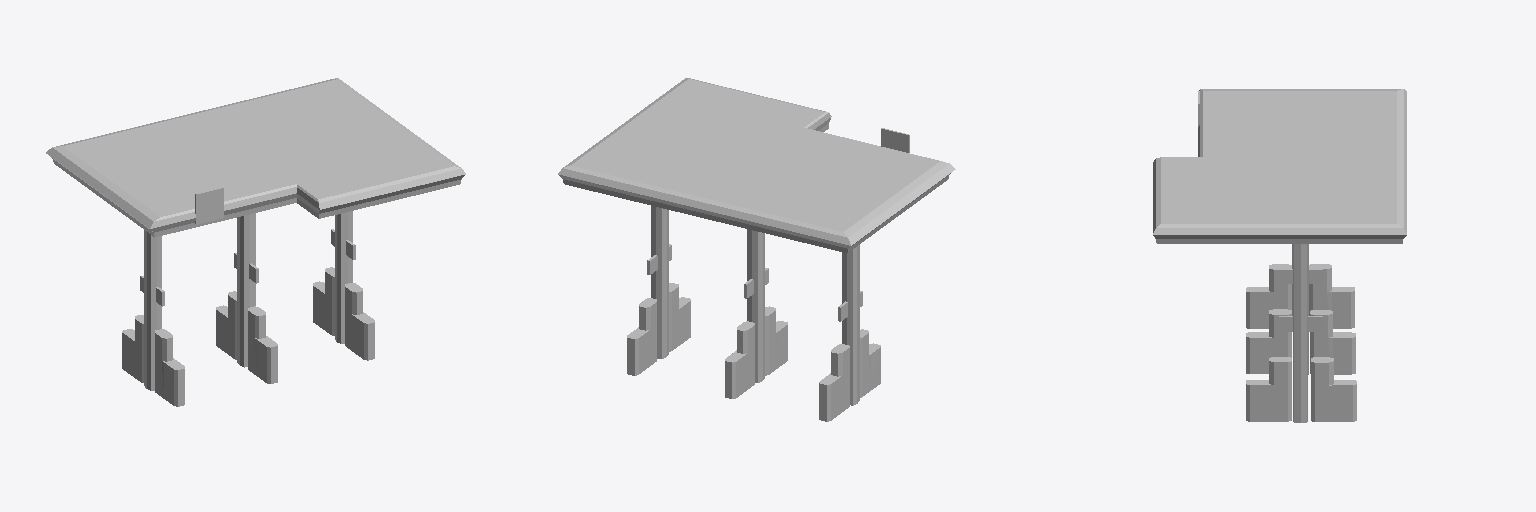
The model's file is PetrolStationV2.obj.
3 renders of one model, left to right at view 1: azimuth 30°, elevation 25°; view 2: azimuth 150°, elevation 25°; view 3: azimuth 270°, elevation 25°, orthographic.
Visible parts, largest first — view 1: Cube; view 2: Cube; view 3: Cube.
Part boxes in pixels (bbox=[...]): Cube: bbox=[46, 78, 465, 406]; Cube: bbox=[558, 78, 955, 421]; Cube: bbox=[1153, 89, 1406, 422].
Bounding box in the file's own units: 43.02 × 32.45 × 32.31.